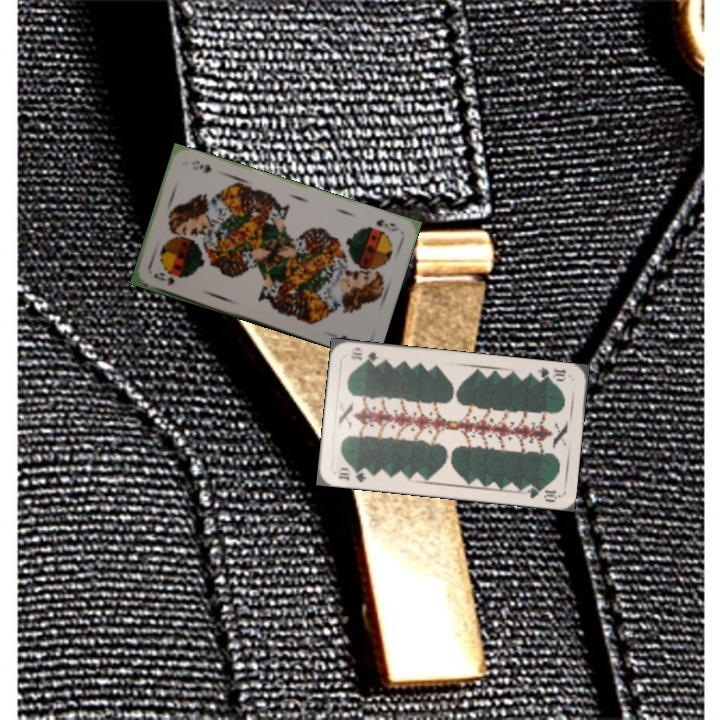G10: (531, 363, 569, 384), (334, 465, 369, 485)
SO: (372, 215, 401, 234), (150, 268, 177, 288)
